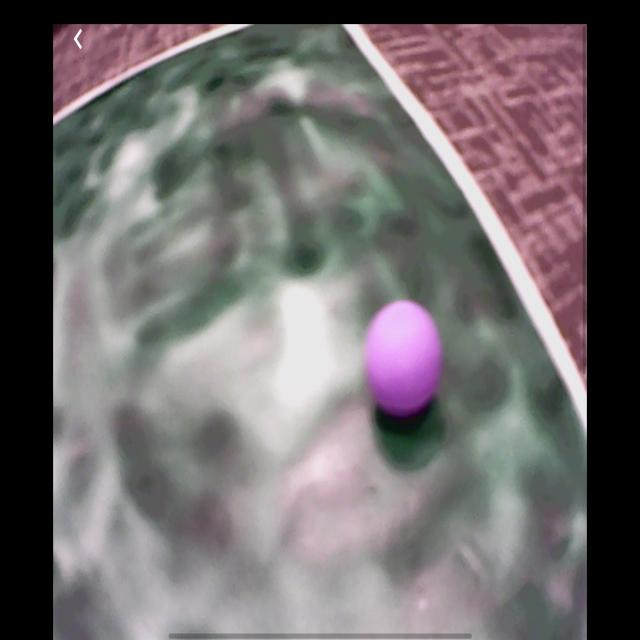ball: (368, 303, 443, 418)
